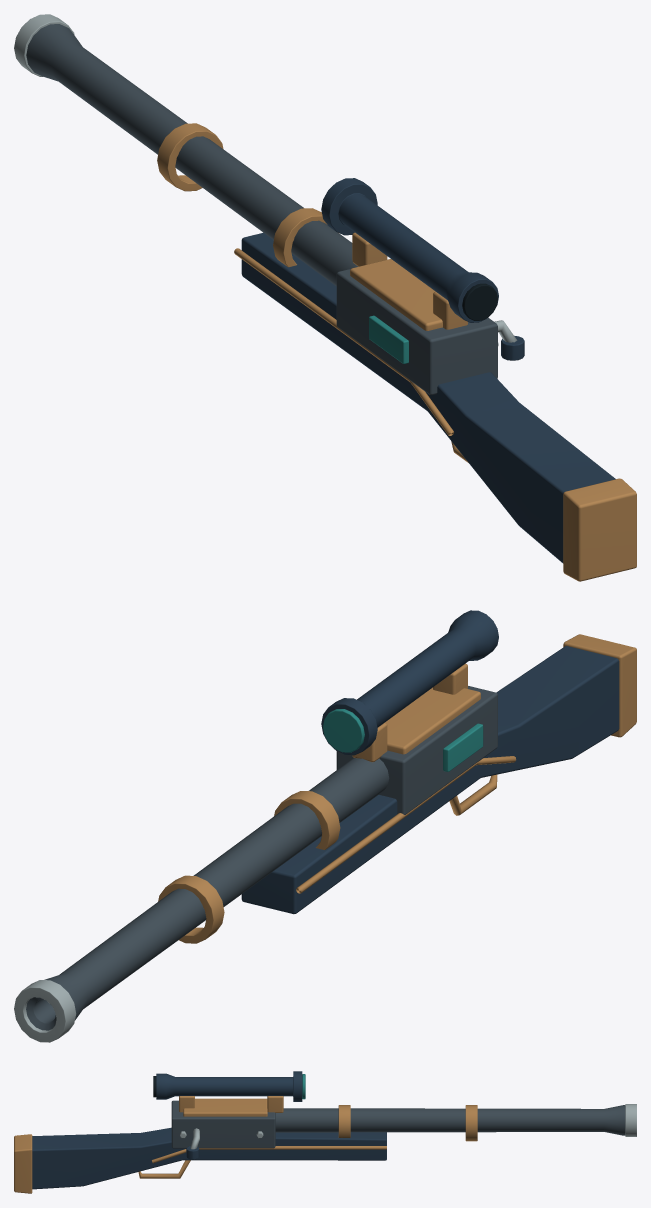
File: rifle.glb
3 views of the same model, one above another, from view 1: azimuth 30°, elevation 25°; view 2: azimuth 150°, elevation 25°; view 3: azimuth 270°, elevation 25° (orthographic). The views are drawn at different scales.
Visible parts, largest first — view 1: v2_rifle__navy_stock, v2_rifle__precision_barrel, v2_rifle__receiver, v2_rifle__optic_tube, v2_rifle__butt_plate, v2_rifle__breech_cover, v2_rifle__floating_barrel_brace_0, v2_rifle__foregrip_trim_neg0p051, v2_rifle__floating_barrel_brace_1, v2_rifle__charge_inlay, v2_rifle__optic_back_lens, v2_rifle__muzzle_crown; view 2: v2_rifle__navy_stock, v2_rifle__precision_barrel, v2_rifle__optic_tube, v2_rifle__receiver, v2_rifle__breech_cover, v2_rifle__butt_plate, v2_rifle__muzzle_crown, v2_rifle__floating_barrel_brace_0, v2_rifle__foregrip_trim_neg0p051, v2_rifle__floating_barrel_brace_1, v2_rifle__optic_front_lens, v2_rifle__charge_inlay (+3 smaller); view 3: v2_rifle__navy_stock, v2_rifle__precision_barrel, v2_rifle__receiver, v2_rifle__optic_tube, v2_rifle__breech_cover, v2_rifle__butt_plate, v2_rifle__foregrip_trim_0p051, v2_rifle__floating_barrel_brace_0, v2_rifle__floating_barrel_brace_1, v2_rifle__muzzle_crown, v2_rifle__trigger_guard, v2_rifle__optic_pedestal_0 (+1 smaller).
Boxes of the visible parts, x1,y1,x2,y2 form: v2_rifle__navy_stock: (241, 232, 615, 563); v2_rifle__precision_barrel: (26, 24, 358, 286); v2_rifle__receiver: (336, 269, 497, 394); v2_rifle__optic_tube: (321, 178, 498, 322); v2_rifle__butt_plate: (563, 478, 636, 581); v2_rifle__breech_cover: (350, 259, 442, 330); v2_rifle__floating_barrel_brace_0: (157, 123, 223, 191); v2_rifle__foregrip_trim_neg0p051: (234, 248, 453, 435); v2_rifle__floating_barrel_brace_1: (273, 208, 327, 267); v2_rifle__charge_inlay: (369, 315, 408, 363); v2_rifle__optic_back_lens: (462, 283, 497, 320); v2_rifle__muzzle_crown: (14, 14, 74, 76); v2_rifle__navy_stock: (241, 646, 619, 914); v2_rifle__precision_barrel: (26, 758, 389, 1030); v2_rifle__optic_tube: (321, 610, 498, 755); v2_rifle__receiver: (336, 686, 497, 814); v2_rifle__breech_cover: (385, 687, 480, 754); v2_rifle__butt_plate: (563, 634, 636, 737); v2_rifle__muzzle_crown: (14, 980, 76, 1042); v2_rifle__floating_barrel_brace_0: (158, 875, 224, 943); v2_rifle__foregrip_trim_neg0p051: (296, 756, 516, 893); v2_rifle__floating_barrel_brace_1: (274, 791, 340, 849); v2_rifle__optic_front_lens: (323, 709, 364, 752); v2_rifle__charge_inlay: (443, 723, 483, 771); v2_rifle__navy_stock: (32, 1127, 386, 1189); v2_rifle__precision_barrel: (275, 1105, 625, 1135); v2_rifle__receiver: (171, 1100, 275, 1148); v2_rifle__optic_tube: (156, 1071, 302, 1101); v2_rifle__breech_cover: (183, 1098, 267, 1116); v2_rifle__butt_plate: (14, 1134, 32, 1193); v2_rifle__foregrip_trim_0p051: (152, 1146, 386, 1163); v2_rifle__floating_barrel_brace_0: (465, 1105, 477, 1141); v2_rifle__floating_barrel_brace_1: (338, 1105, 350, 1137); v2_rifle__muzzle_crown: (625, 1104, 636, 1136); v2_rifle__trigger_guard: (138, 1160, 190, 1178); v2_rifle__optic_pedestal_0: (267, 1096, 283, 1112).
Size of the model in its own units: 0.1938 by 0.3266 by 1.62.
